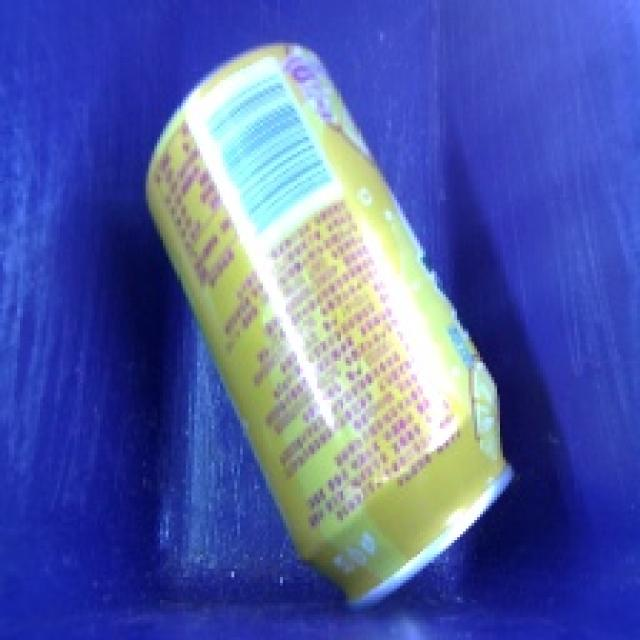metal: (132, 33, 538, 620)
